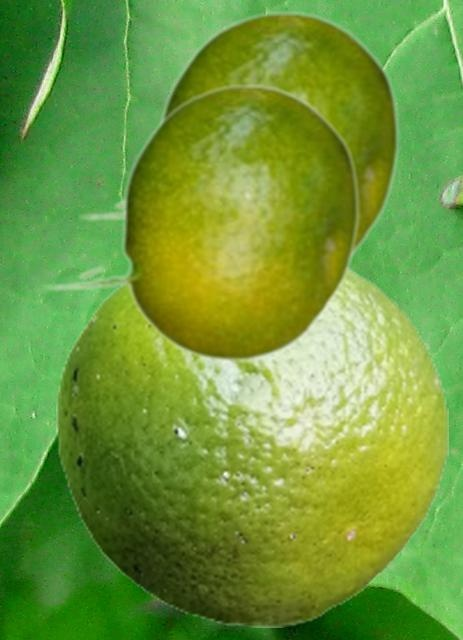calamansi: (56, 264, 447, 626), (42, 82, 359, 361), (77, 9, 399, 262)
